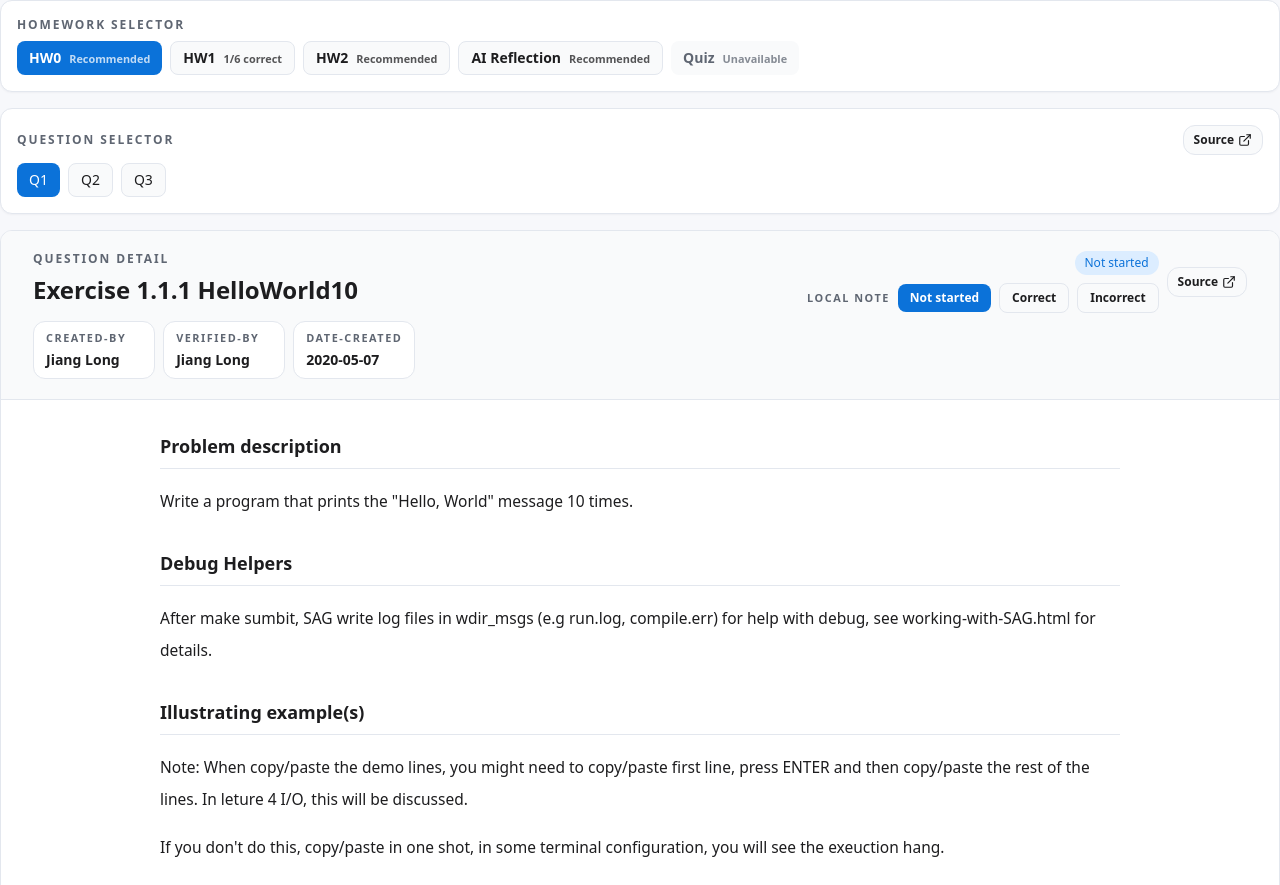
Test case: HomeworkPracticeBoard › uses teacher-site JPA status as the primary homework progress source
Click the button "HW11/6 correct" at [233, 58], box [170, 41, 295, 75]
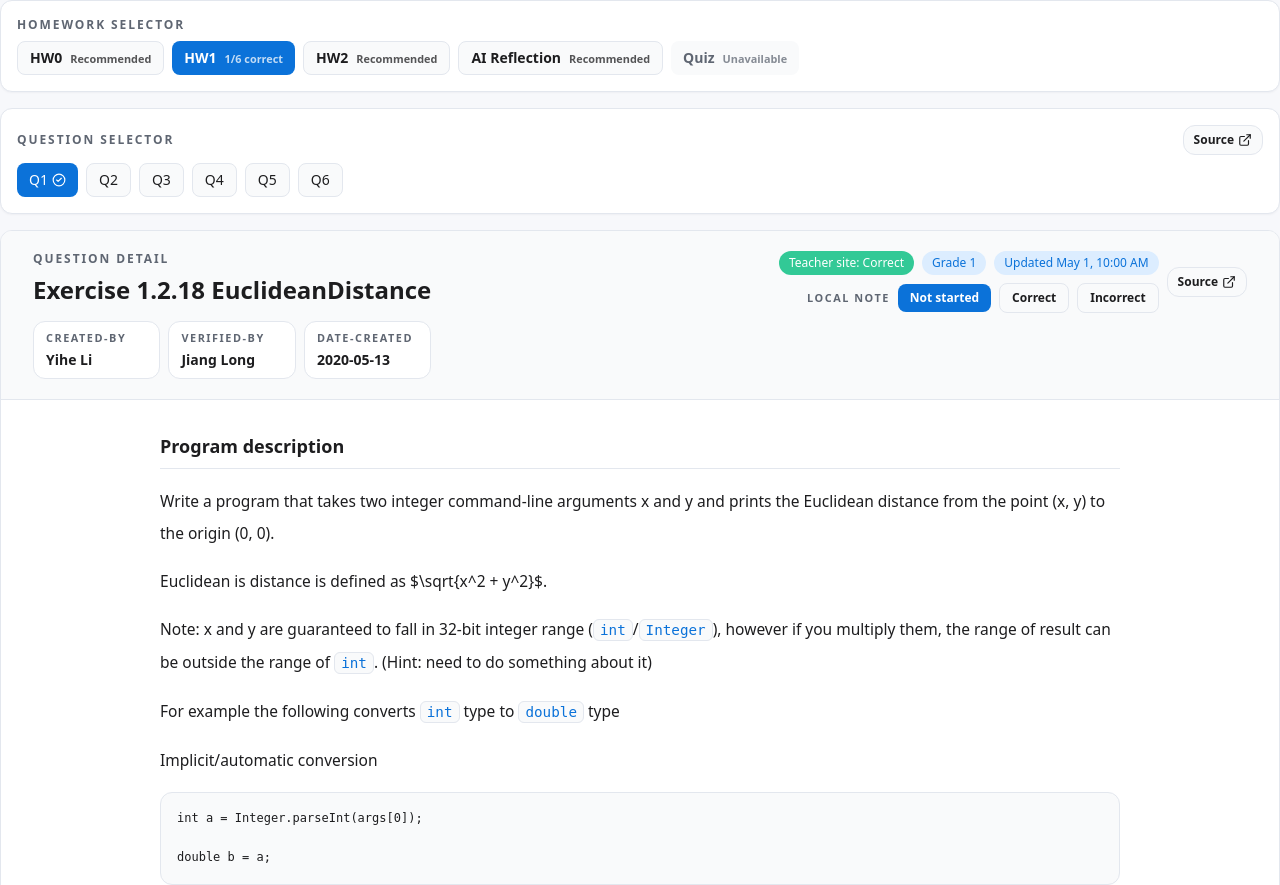
Expected: the text "1/6 correct" is shown, [225, 51, 283, 66]
Now the text "Teacher site: Correct" is shown, box [779, 251, 914, 275]
Now the text "Grade 1" is shown, box [922, 251, 986, 275]
